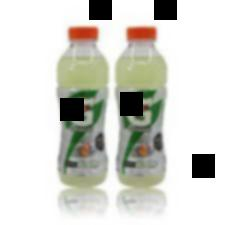gatorade_lemon: (112, 24, 169, 188), (54, 24, 109, 188)
